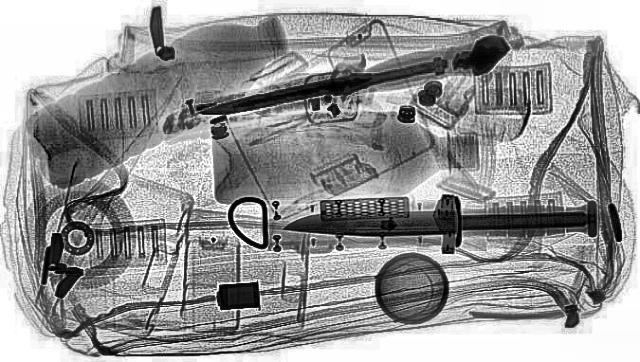Knife: (282, 192, 598, 255), (192, 54, 456, 120)
